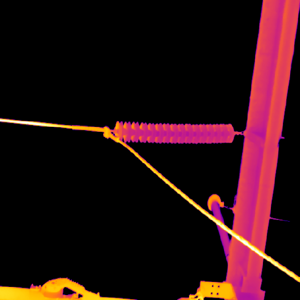insulator: (112, 120, 234, 142)
